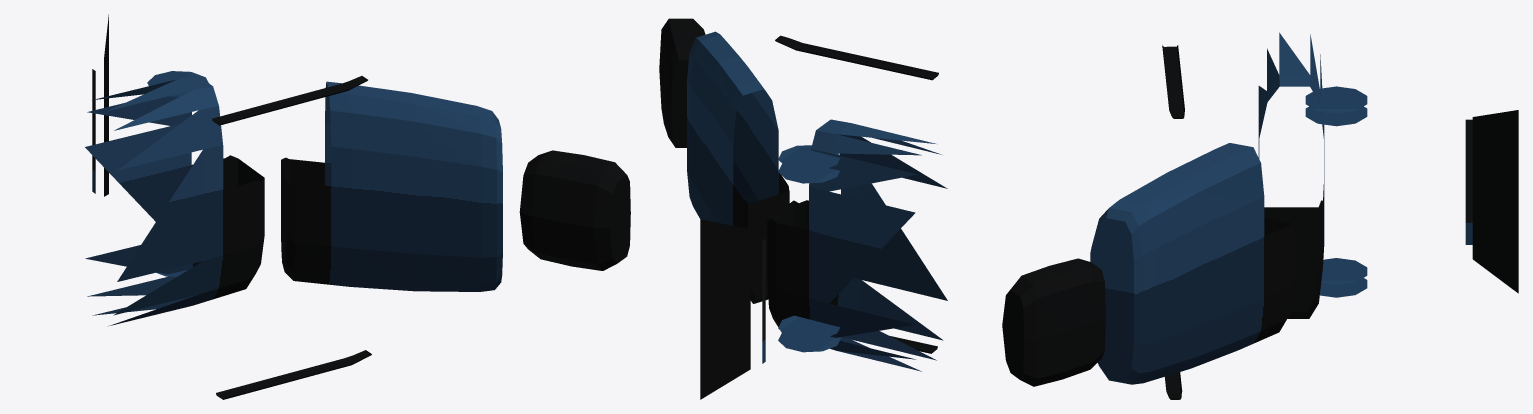
3 renders of one model, left to right at view 1: azimuth 30°, elevation 25°; view 2: azimuth 150°, elevation 25°; view 3: azimuth 270°, elevation 25°, orthographic. The views are drawn at different scales.
Bounding box in the file's own units: 1.17 × 0.7457 × 1.12.
